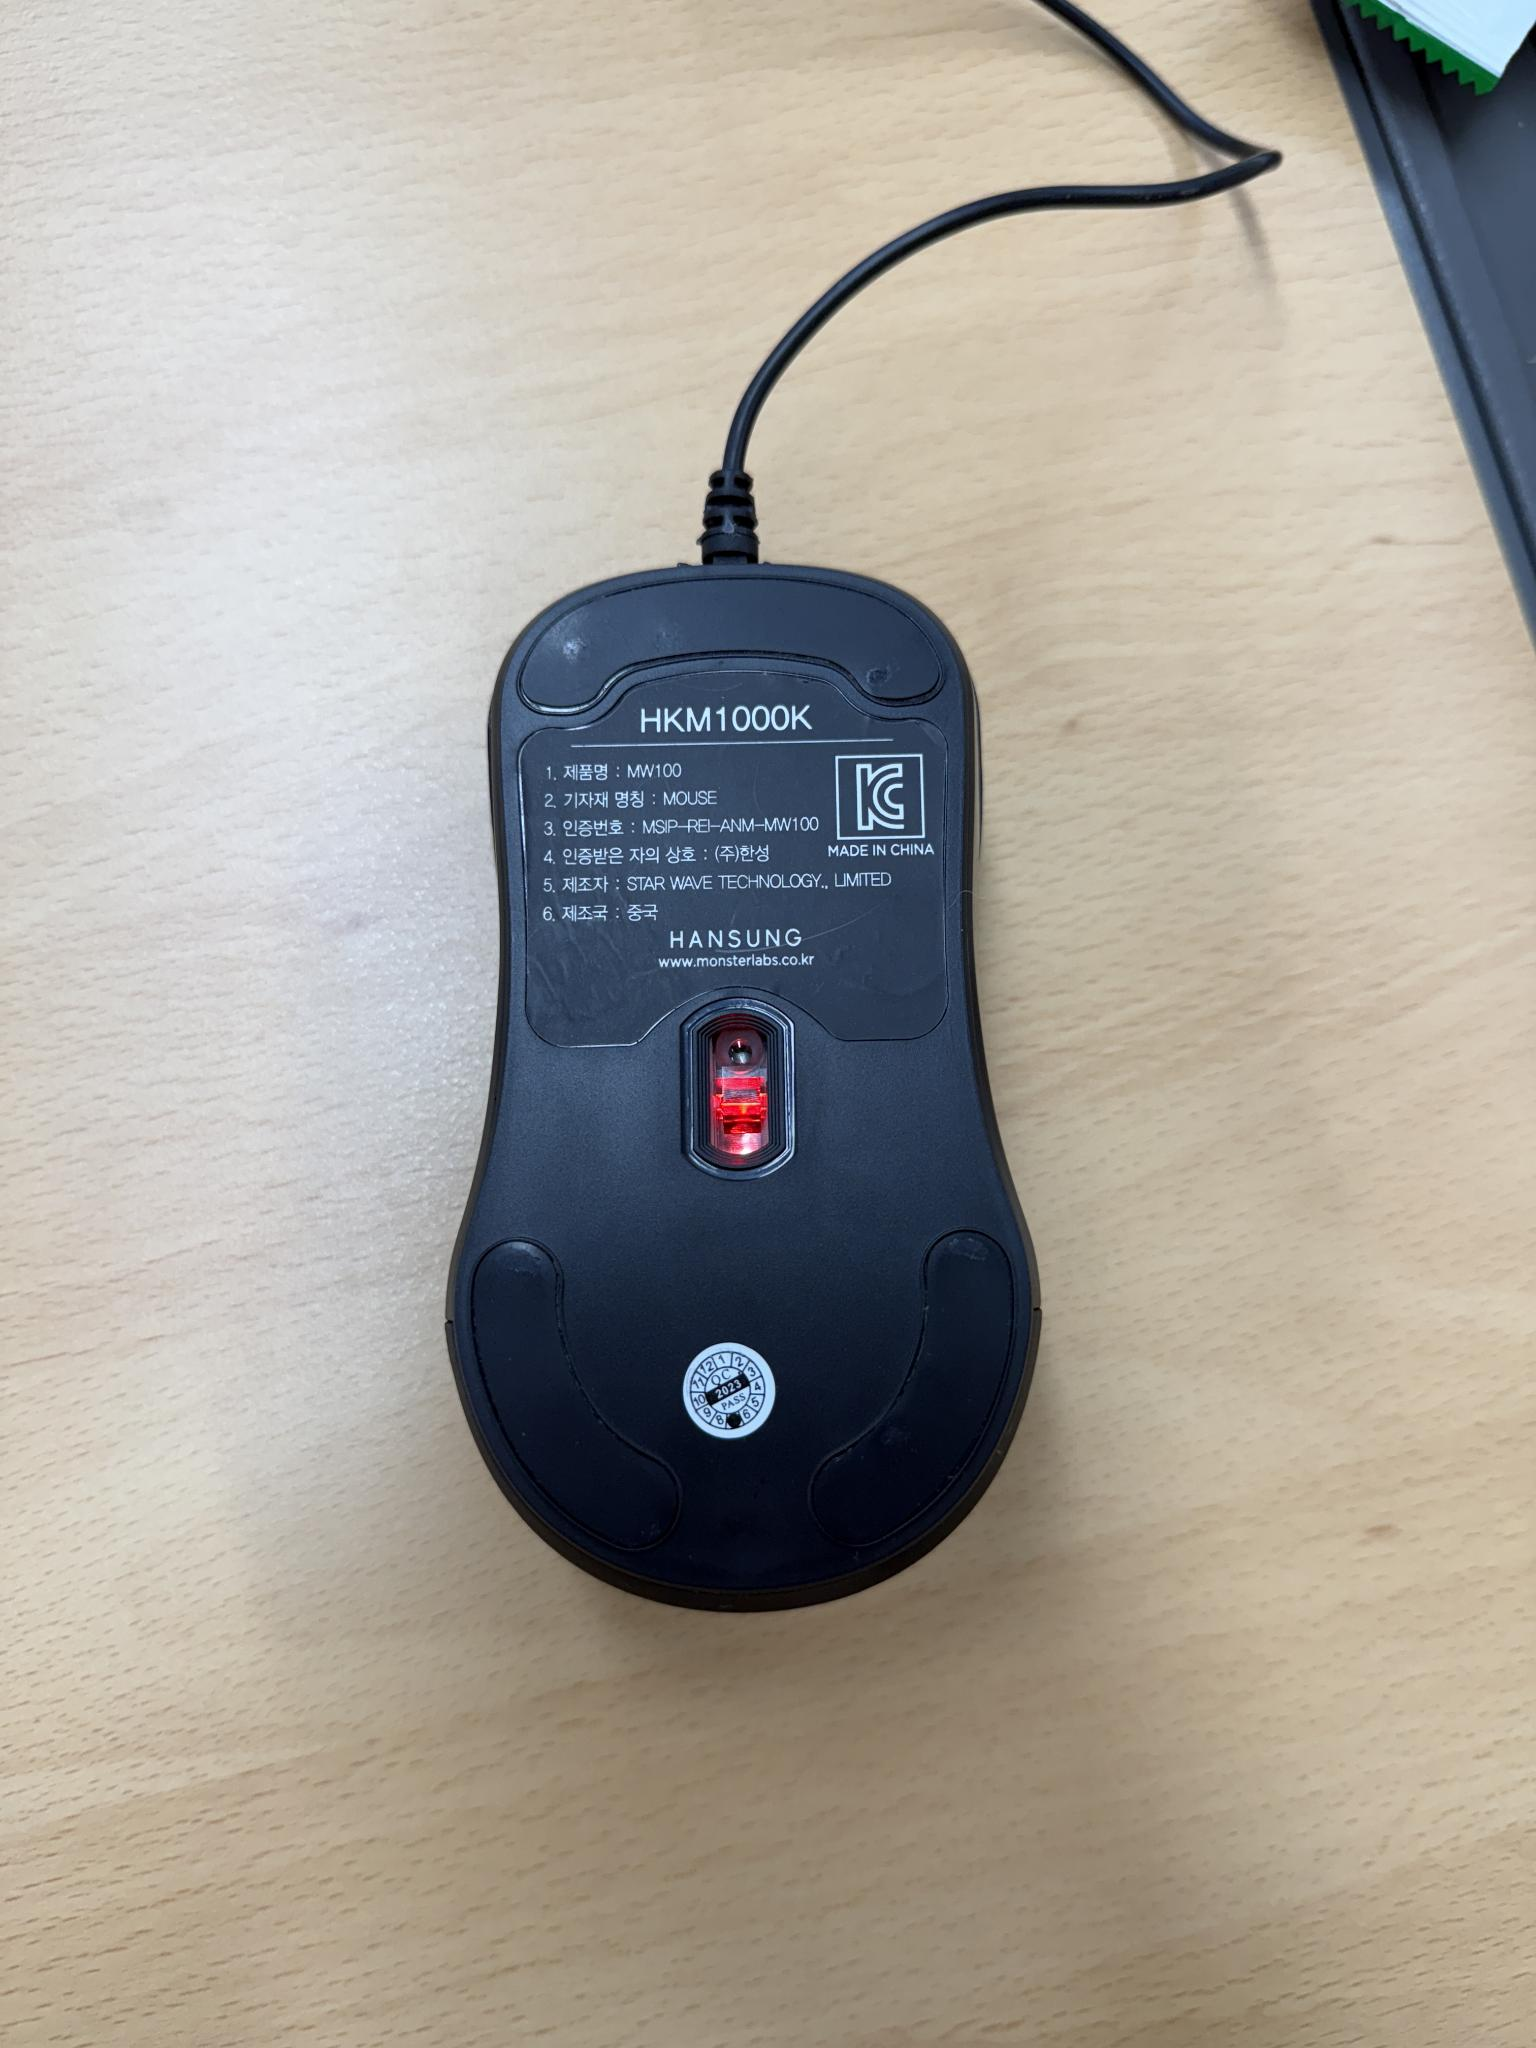back: (437, 556, 1047, 1616)
